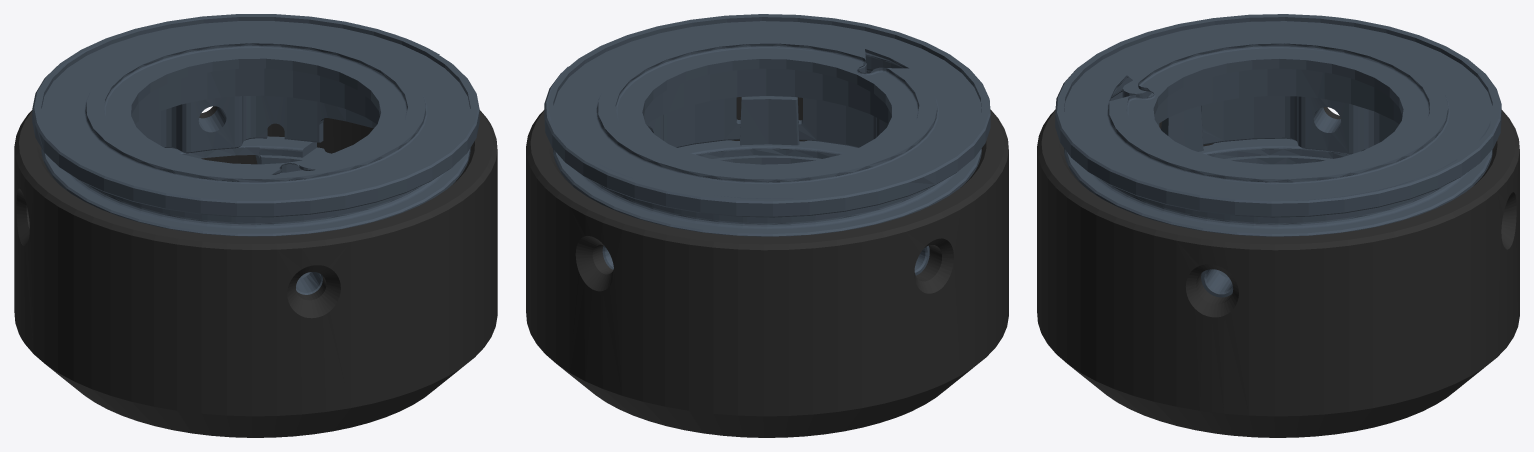
The model's file is connector_link.glb.
3 renders of one model, left to right at view 1: azimuth 30°, elevation 25°; view 2: azimuth 150°, elevation 25°; view 3: azimuth 270°, elevation 25°, orthographic.
Visible parts, largest first — view 1: connector; view 2: connector; view 3: connector.
Boxes of the visible parts, left/top/right/bottom form: connector: left=14, top=14, right=497, bottom=437; connector: left=526, top=14, right=1008, bottom=437; connector: left=1037, top=14, right=1519, bottom=437.
Bounding box in the file's own units: 0.054 × 0.0325 × 0.054.
